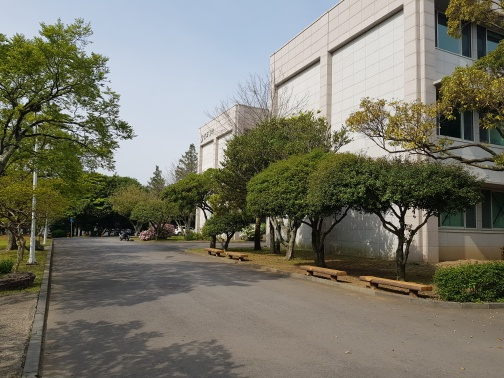College of Nursing: (268, 7, 498, 257), (188, 98, 258, 237)
